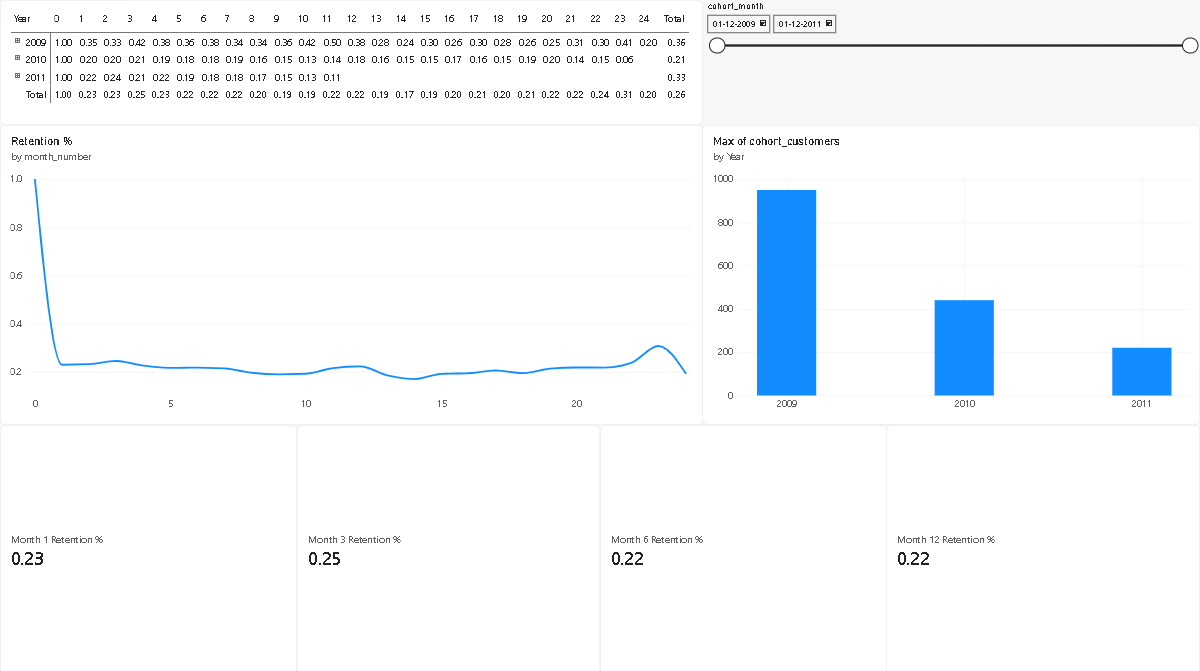

Layout of this report page (visuals, bound fields, positions):
{"tool":"powerbi","page":{"name":"Page 2: Cohort Retention","canvas":[1920,1080],"ordinal":1},"visuals":[{"type":"cardVisual","fields":{"Data":["3. Cohort Retention Measures.Month 1 Retention %"]},"box":[0,679.2,475.5,401.4],"z":0},{"type":"cardVisual","fields":{"Data":["3. Cohort Retention Measures.Month 12 Retention %"]},"box":[1418.2,679.2,502.2,401.4],"z":1000},{"type":"cardVisual","fields":{"Data":["3. Cohort Retention Measures.Month 3 Retention %"]},"box":[475.5,679.2,483.7,401.4],"z":2000},{"type":"cardVisual","fields":{"Data":["3. Cohort Retention Measures.Month 6 Retention %"]},"box":[959.2,679.2,459,401.4],"z":3000},{"type":"slicer","fields":{"Values":["retail_cohort v_cohort_retention.cohort_month"]},"box":[1124,0,796.5,199.7],"z":4000},{"type":"pivotTable","fields":{"Columns":["retail_cohort v_cohort_retention.month_number"],"Rows":["retail_cohort v_cohort_retention.cohort_month.Variation.Date Hierarchy.Year","retail_cohort v_cohort_retention.cohort_month.Variation.Date Hierarchy.Quarter","retail_cohort v_cohort_retention.cohort_month.Variation.Date Hierarchy.Month","retail_cohort v_cohort_retention.cohort_month.Variation.Date Hierarchy.Day"],"Values":["3. Cohort Retention Measures.Retention %"]},"box":[0,0,1124,199.7],"z":5000},{"type":"lineChart","fields":{"Category":["retail_cohort v_cohort_retention.month_number"],"Y":["3. Cohort Retention Measures.Retention %"]},"box":[0,199.7,1124,480.1],"z":6000},{"type":"clusteredColumnChart","fields":{"Category":["retail_cohort v_cohort_retention.cohort_month.Variation.Date Hierarchy.Year","retail_cohort v_cohort_retention.cohort_month.Variation.Date Hierarchy.Quarter","retail_cohort v_cohort_retention.cohort_month.Variation.Date Hierarchy.Month","retail_cohort v_cohort_retention.cohort_month.Variation.Date Hierarchy.Day"],"Y":["Max(retail_cohort v_cohort_retention.cohort_customers)"]},"box":[1124,200,796,479],"z":7000}]}

Visuals, with their boxes in screenshot pixels (x1, y1, x2, y2), scaled from the page's 1920x1080 canvas onto the 1200x671 screenshot:
cardVisual - 3. Cohort Retention Measures.Month 1 Retention %: [0,422,297,670]
cardVisual - 3. Cohort Retention Measures.Month 12 Retention %: [886,422,1199,670]
cardVisual - 3. Cohort Retention Measures.Month 3 Retention %: [297,422,600,670]
cardVisual - 3. Cohort Retention Measures.Month 6 Retention %: [600,422,886,670]
slicer - retail_cohort v_cohort_retention.cohort_month: [702,0,1199,124]
pivotTable - retail_cohort v_cohort_retention.month_number x retail_cohort v_cohort_retention.cohort_month.Variation.Date Hierarchy.Year: [0,0,702,124]
lineChart - retail_cohort v_cohort_retention.month_number x 3. Cohort Retention Measures.Retention %: [0,124,702,422]
clusteredColumnChart - retail_cohort v_cohort_retention.cohort_month.Variation.Date Hierarchy.Year x retail_cohort v_cohort_retention.cohort_month.Variation.Date Hierarchy.Quarter: [702,124,1199,422]
